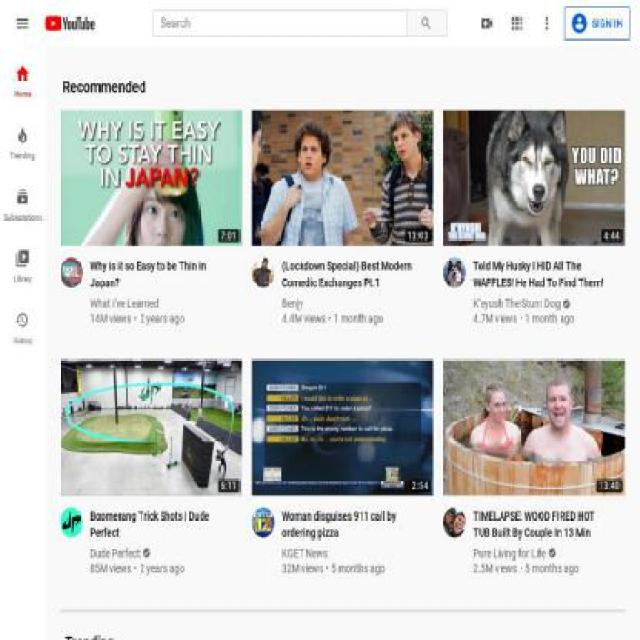button: (60, 110, 242, 247), (443, 110, 625, 247), (60, 359, 242, 496), (443, 359, 625, 496), (252, 110, 433, 247), (252, 359, 433, 496), (281, 258, 419, 292), (281, 507, 419, 541), (90, 258, 227, 292), (473, 258, 610, 292), (90, 507, 227, 541), (473, 507, 610, 541), (0, 50, 45, 112), (0, 173, 45, 235), (0, 235, 45, 297), (0, 112, 45, 173), (0, 297, 45, 358), (564, 7, 630, 39), (472, 296, 562, 312), (473, 544, 547, 562), (405, 9, 447, 37), (89, 296, 160, 312), (44, 13, 96, 33), (89, 544, 142, 562), (281, 544, 328, 562), (60, 507, 83, 538), (443, 507, 466, 538), (60, 258, 83, 288), (443, 258, 466, 288), (252, 507, 274, 538), (252, 258, 274, 288), (282, 296, 304, 312), (66, 632, 114, 639), (479, 13, 495, 33), (509, 13, 525, 33), (539, 13, 555, 33), (15, 13, 30, 33)
field: (160, 12, 405, 34)
